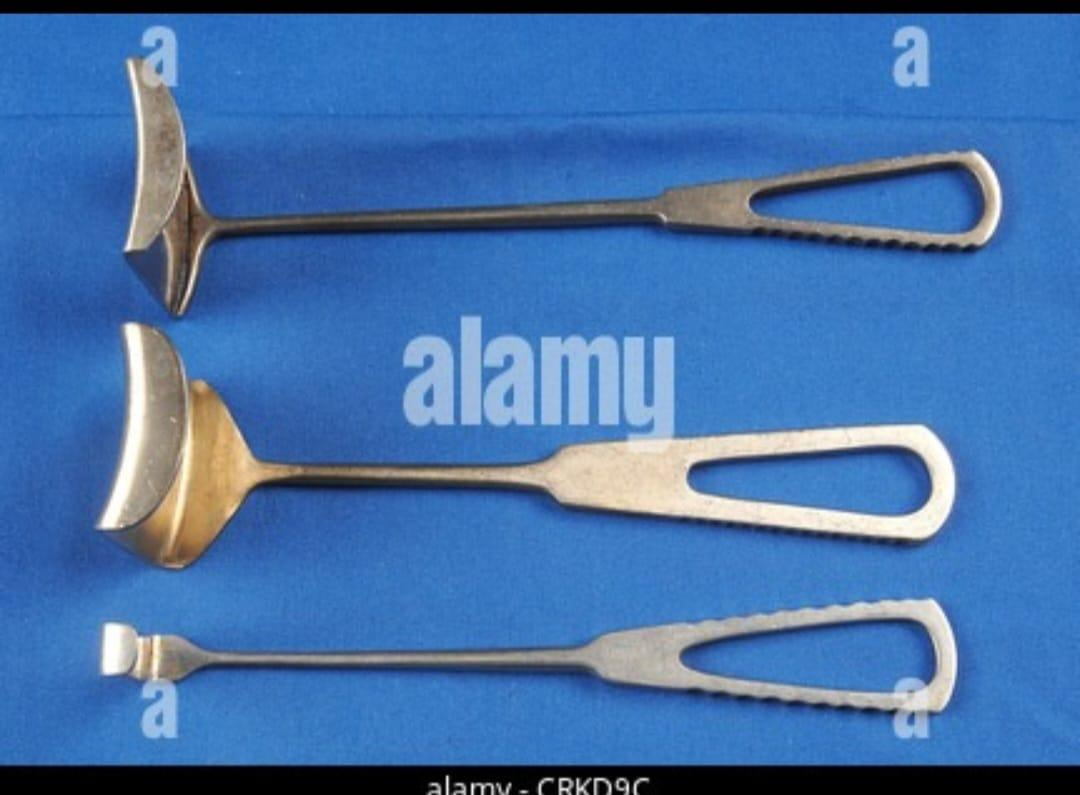Morris Retractor: (123, 53, 1002, 318), (94, 318, 958, 572)
